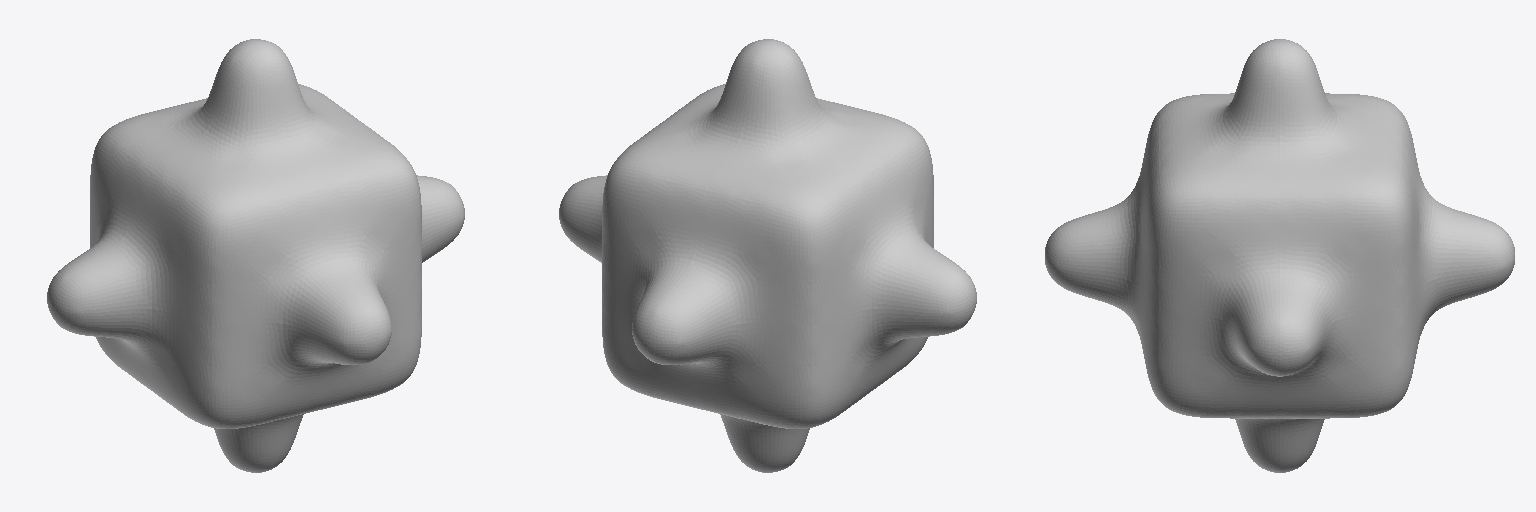
File: bumpy-cube.obj
The picture shows the model from 3 angles: view 1: azimuth 30°, elevation 25°; view 2: azimuth 150°, elevation 25°; view 3: azimuth 270°, elevation 25°; orthographic projection.
Visible parts, largest first — view 1: bumpy-cube; view 2: bumpy-cube; view 3: bumpy-cube.
Boxes of the visible parts, box(x1,y1,x2,y2) form: bumpy-cube: box(47, 39, 464, 472); bumpy-cube: box(559, 39, 976, 472); bumpy-cube: box(1045, 39, 1514, 472).
Size of the model in its own units: 8.68 by 8.68 by 8.68.